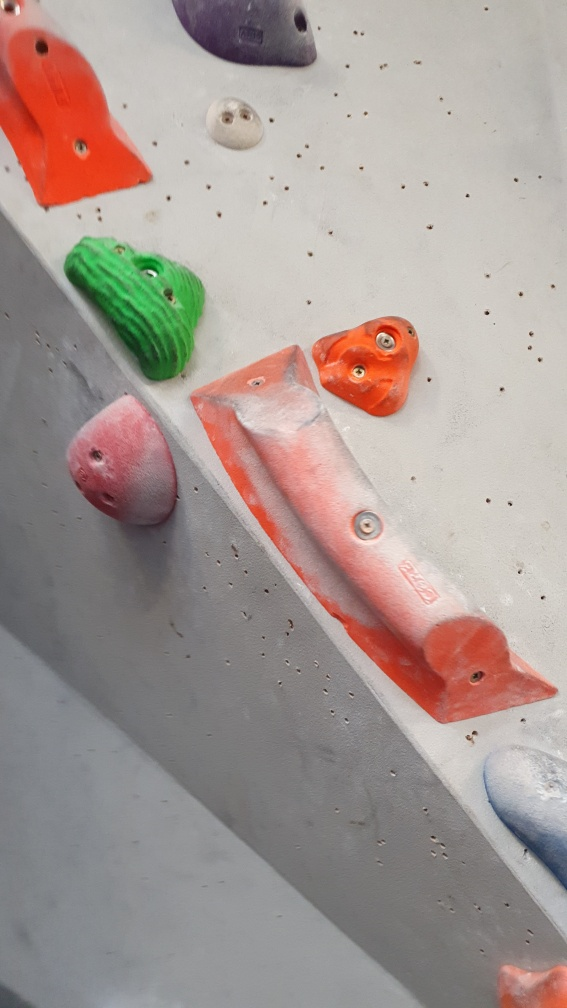Jug: (61, 232, 208, 384)
Pinch: (189, 344, 562, 726), (1, 4, 154, 214)
